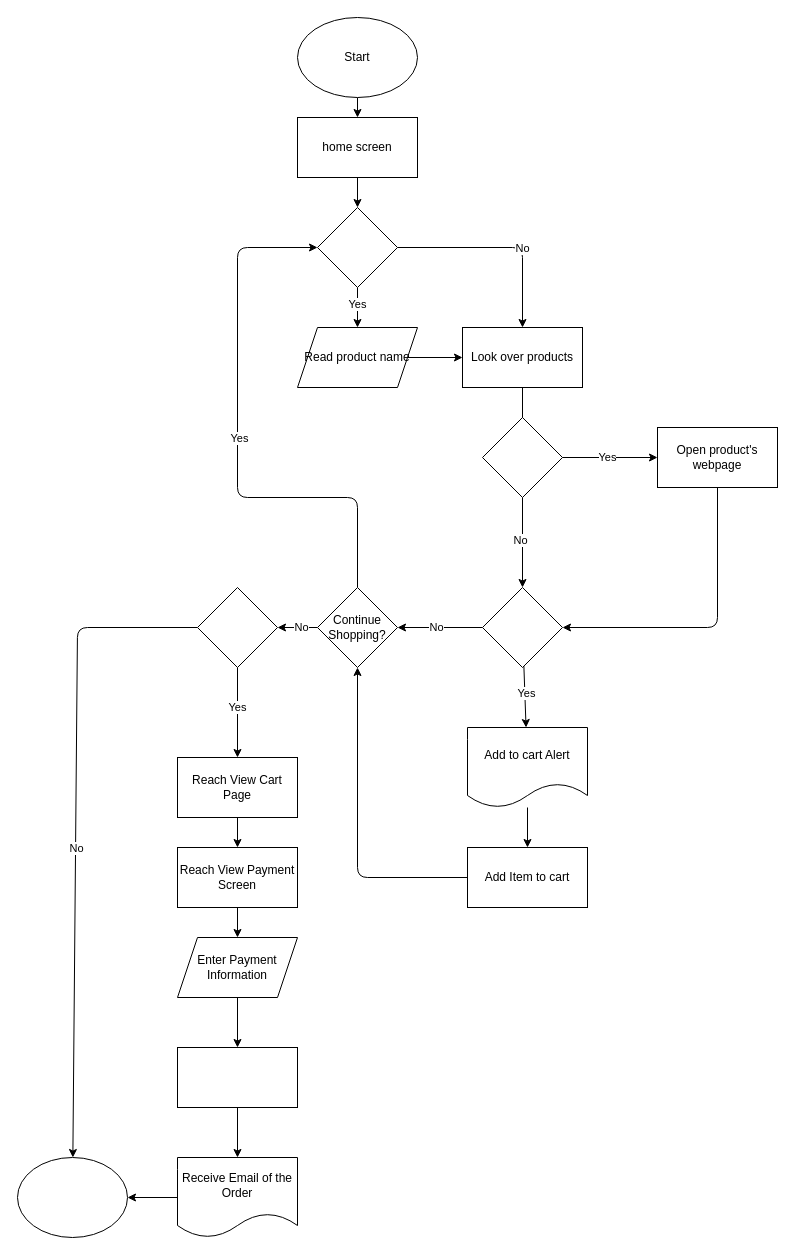
This 795x1255 diagram has some shape labels left out. The shapes that lost their labels are listed below. From the top down, each one's centre as x and y in pixels, then its label:
pixel 357 247: search for product
pixel 522 457: View Specific Product?
pixel 237 627: Checkout?
pixel 522 627: Add to cart?
pixel 237 1077: Order Confirmation Screen
pixel 72 1197: Leave website
